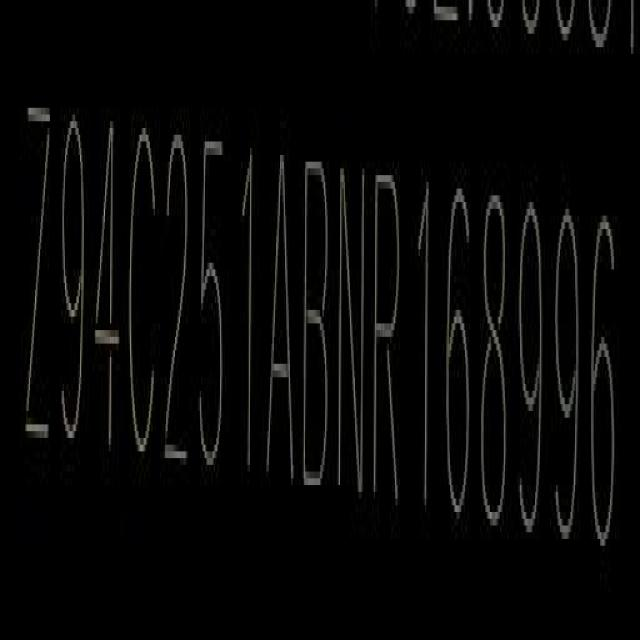1: (416, 182, 436, 512), (240, 137, 254, 477)
2: (162, 117, 192, 472)
4: (91, 102, 121, 462)
5: (199, 122, 226, 479)
6: (589, 194, 618, 556), (446, 172, 470, 527)
8: (480, 182, 507, 537)
9: (57, 94, 87, 462), (515, 185, 546, 539), (552, 187, 582, 549)
A: (266, 147, 296, 482)
B: (302, 145, 328, 499)
C: (125, 114, 158, 462)
N: (337, 142, 366, 499)
R: (372, 155, 401, 509)
Z: (25, 95, 54, 469)
